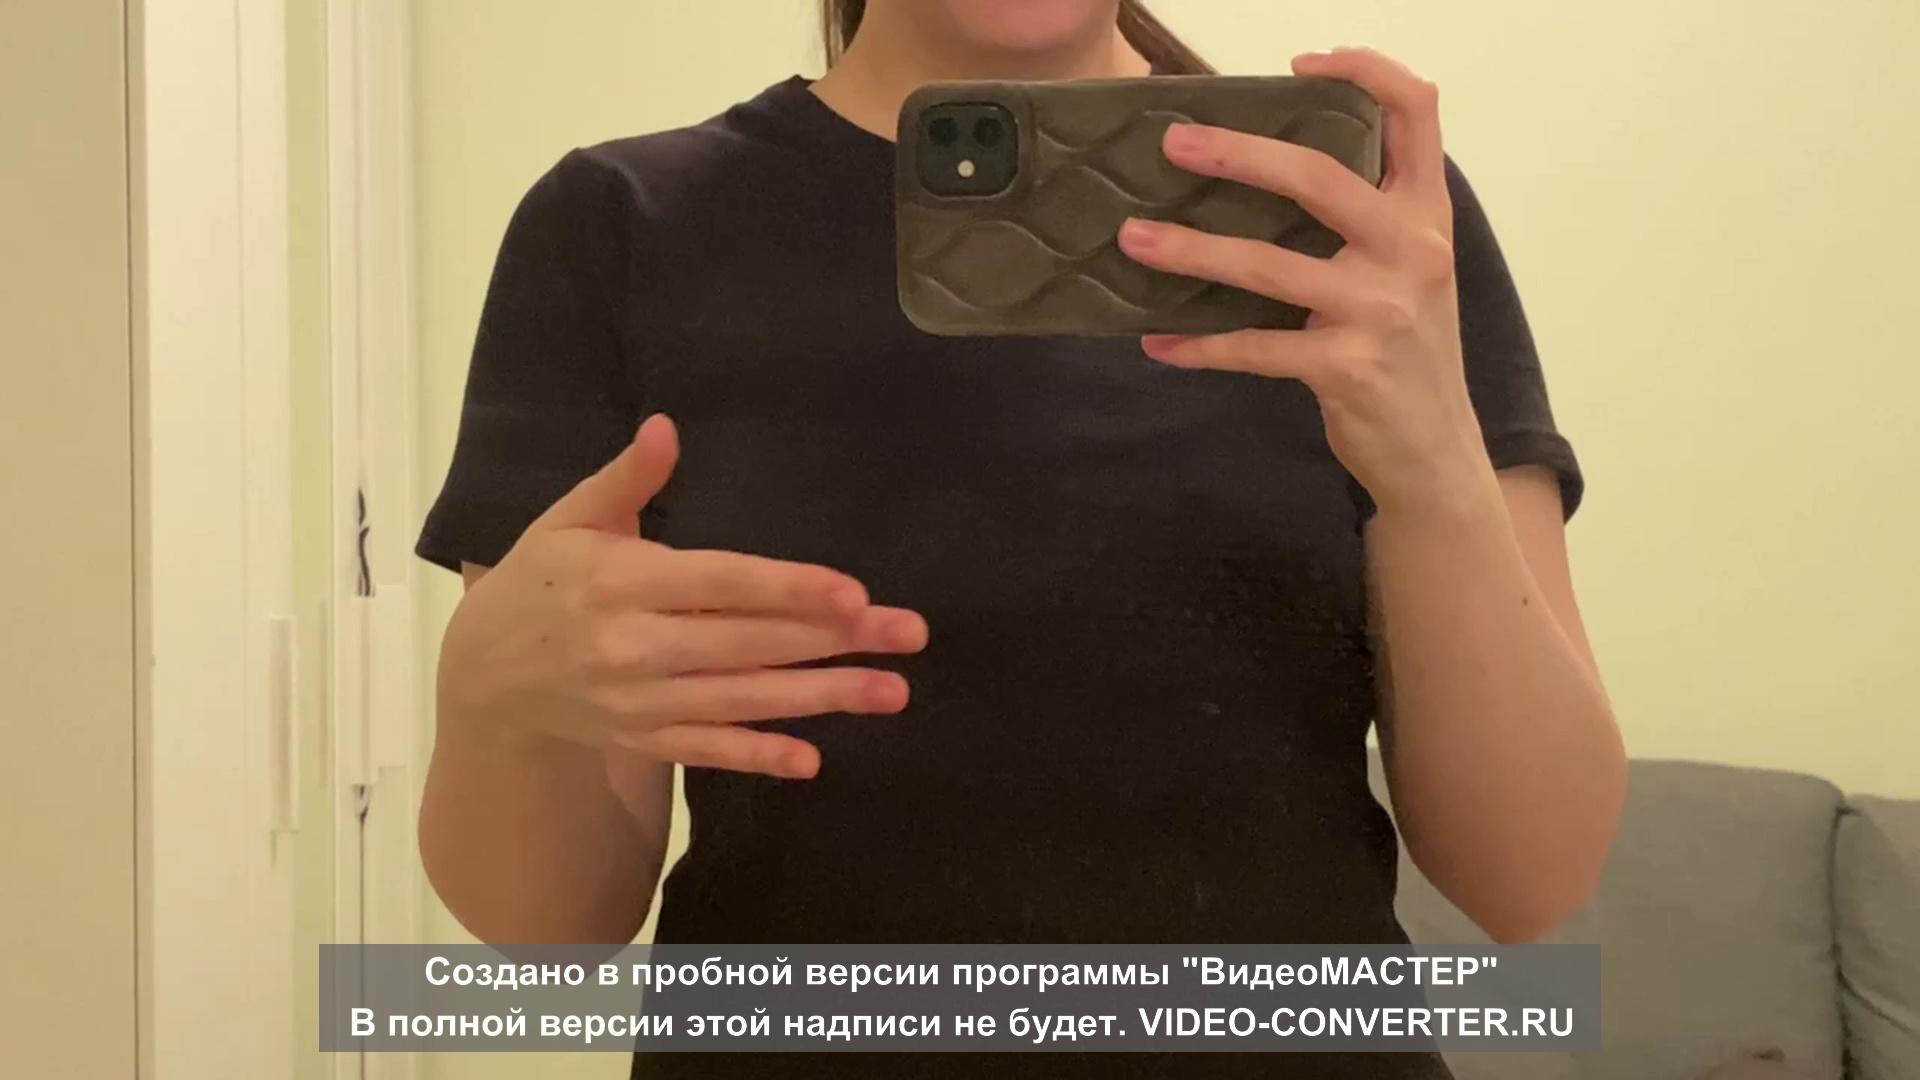Кисть: (450, 414, 928, 777)
